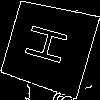H: (23, 22, 78, 69)
